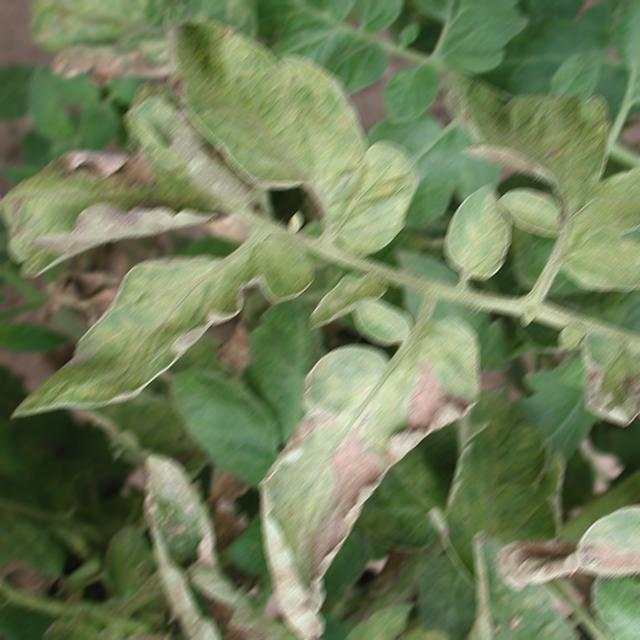Tomato mold leaf: (255, 315, 485, 640), (162, 15, 420, 263), (10, 234, 317, 423), (501, 470, 640, 602), (442, 184, 524, 284), (575, 328, 640, 428), (495, 185, 581, 239)
